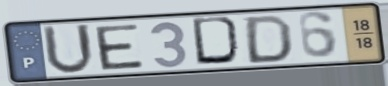3: (148, 19, 190, 70)
6: (297, 9, 340, 64)
D: (189, 15, 246, 68), (244, 13, 294, 65)
E: (91, 22, 146, 72)
U: (40, 22, 97, 77)
